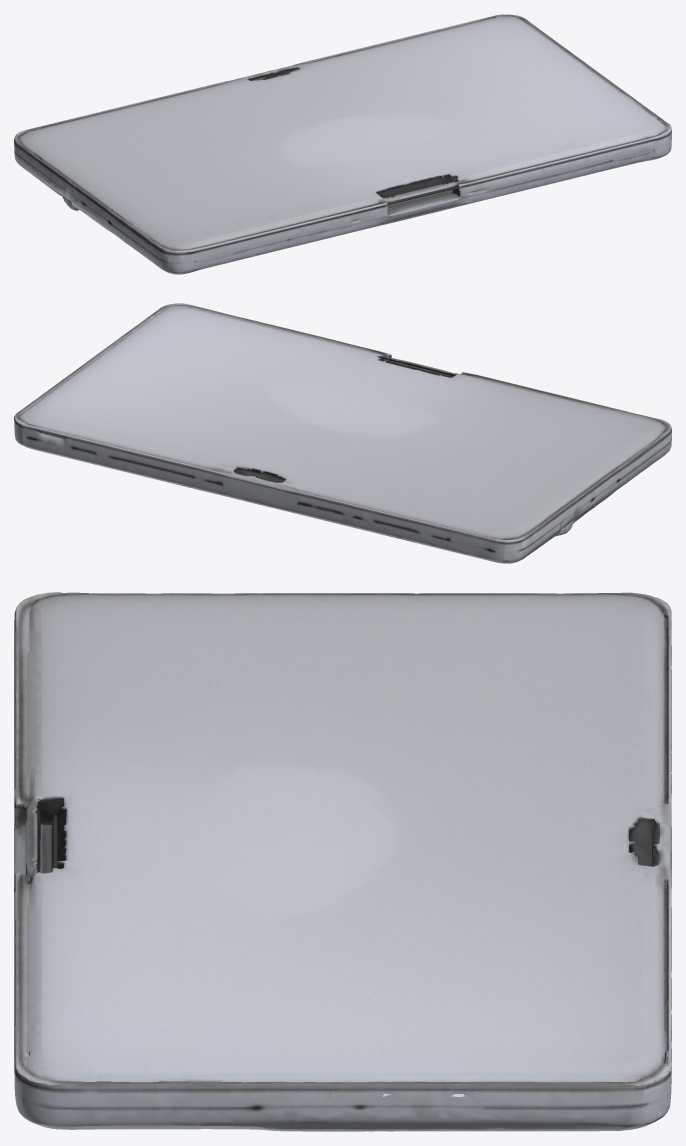
File: L_LAPTOP.glb
3 renders of one model, top to bottom at view 1: azimuth 30°, elevation 25°; view 2: azimuth 150°, elevation 25°; view 3: azimuth 270°, elevation 25°, orthographic. The views are drawn at different scales.
Visible parts, largest first — view 1: world; view 2: world; view 3: world.
Boxes of the visible parts, bbox=[...] form: world: bbox=[14, 14, 671, 274]; world: bbox=[14, 303, 671, 563]; world: bbox=[14, 592, 671, 1131].
Bounding box in the file's own units: 0.312 × 0.0212 × 0.176.
1 material, 1 textured.
